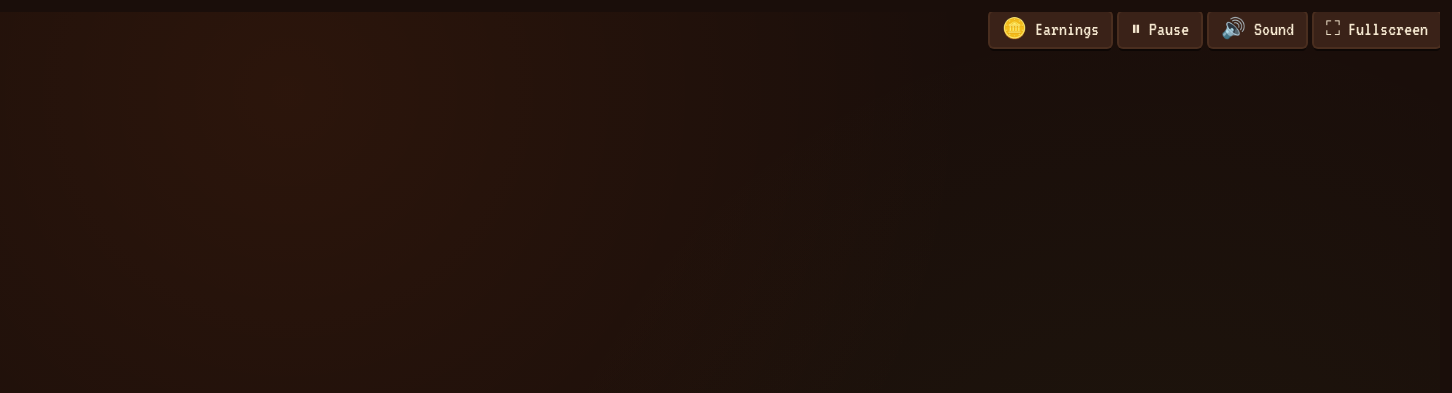
Scenario: GameShell › resumes from the pause overlay
Click the button "⏸ Pause". click: [1160, 30]
box: left=1119, top=12, right=1201, bottom=47
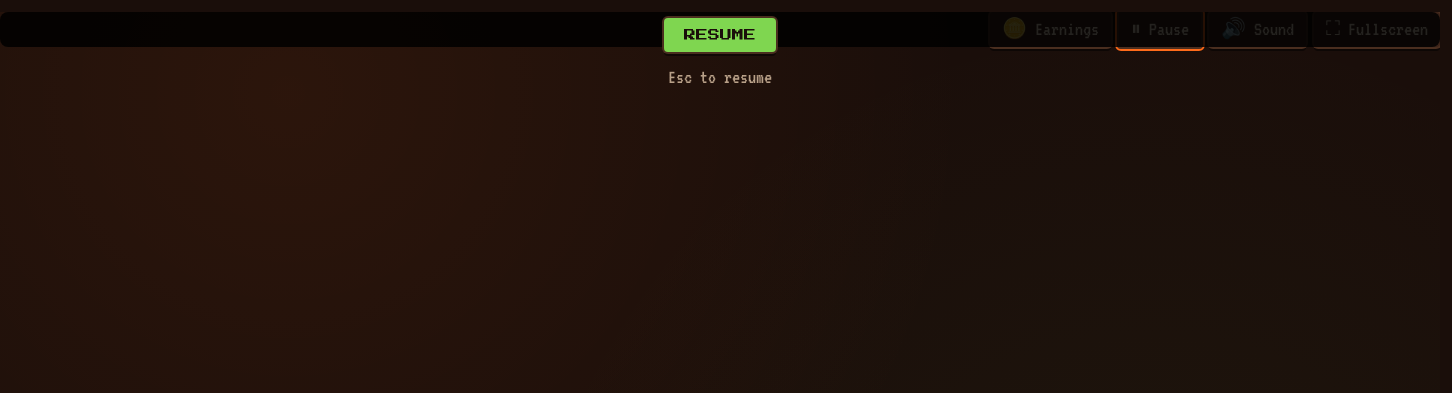
Click the button "RESUME". click: [720, 35]
box: left=664, top=18, right=776, bottom=52
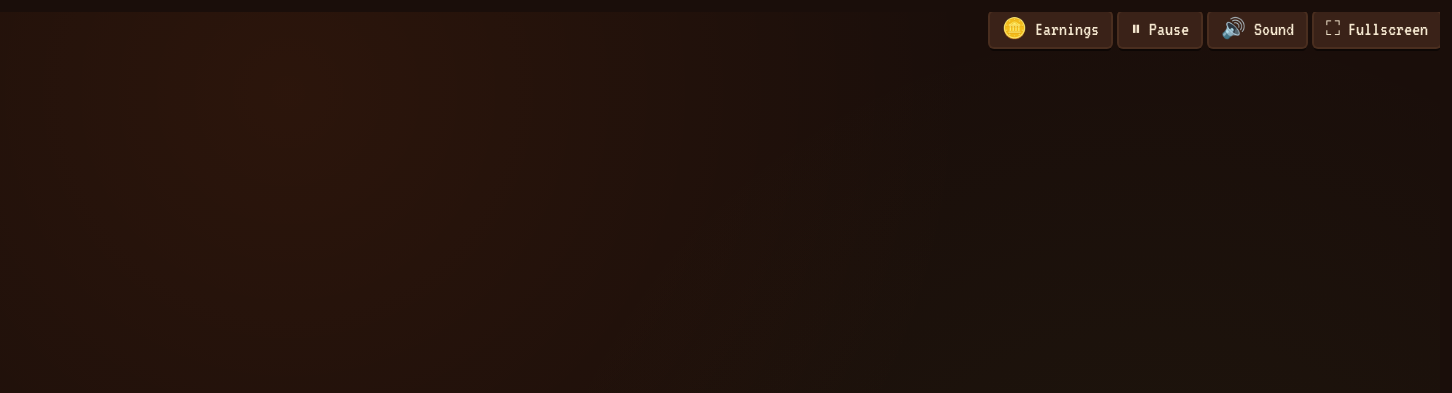
Now the text "PAUSED" is gone
